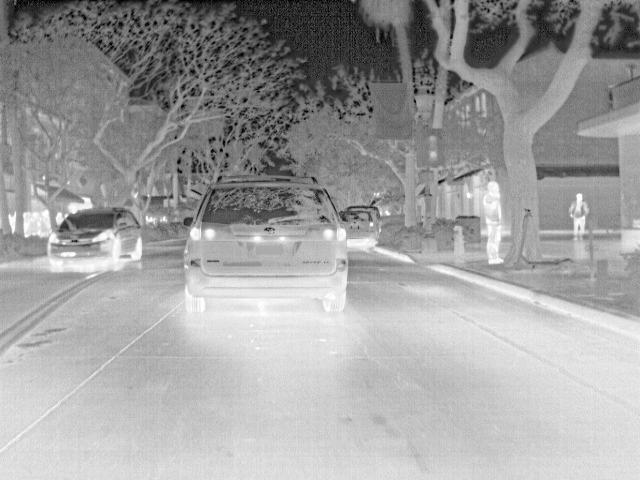car: (184, 173, 351, 316), (45, 207, 144, 275), (341, 212, 378, 252), (346, 204, 384, 234)
person: (481, 178, 505, 265), (566, 190, 590, 241), (41, 208, 54, 235), (52, 209, 65, 228)
